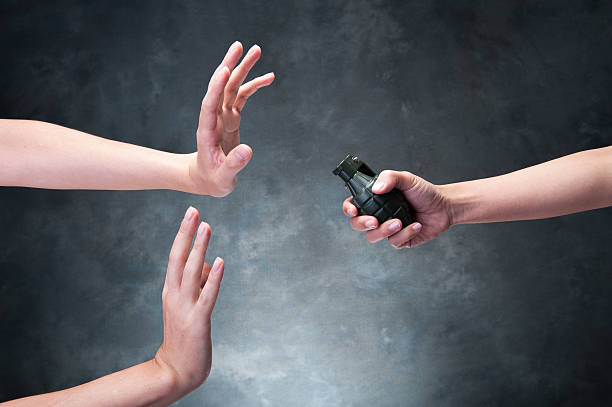e1: (335, 159, 410, 222)
